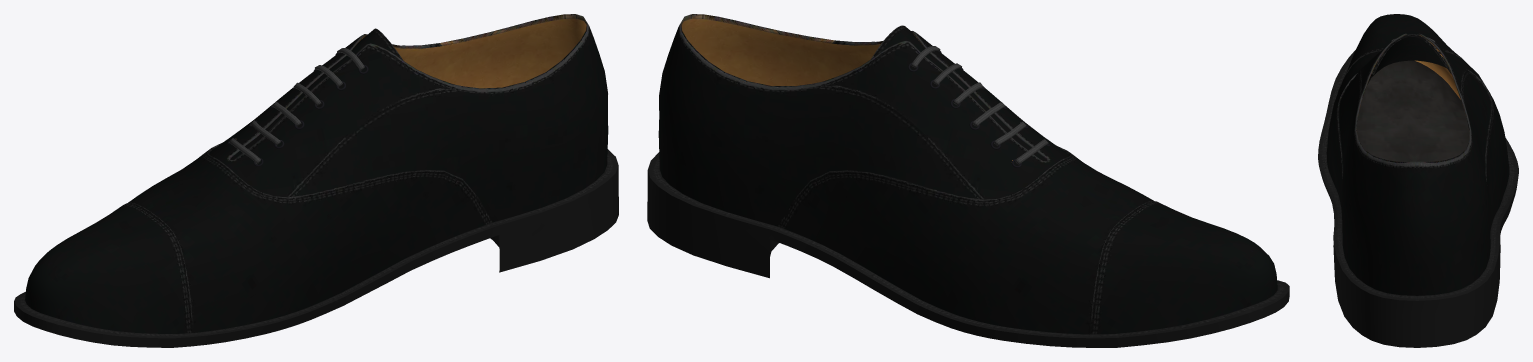
File: sapato social de couro preto.glb
The picture shows the model from 3 angles, left to right: view 1: azimuth 30°, elevation 25°; view 2: azimuth 150°, elevation 25°; view 3: azimuth 270°, elevation 25°; orthographic projection. The views are drawn at different scales.
Visible parts, largest first — view 1: Plane_BlackLeather_0, BezierCurve_Cord_0; view 2: Plane_BlackLeather_0, BezierCurve_Cord_0; view 3: Plane_BlackLeather_0.
Part boxes in pixels (x1,y1,x2,y2): Plane_BlackLeather_0: (14,14,618,347); BezierCurve_Cord_0: (229,48,364,164); Plane_BlackLeather_0: (647,14,1289,347); BezierCurve_Cord_0: (911,46,1048,164); Plane_BlackLeather_0: (1318,14,1518,347).
Size of the model in its own units: 443 by 163 by 139.
Materials: 2 (2 with a texture image).
